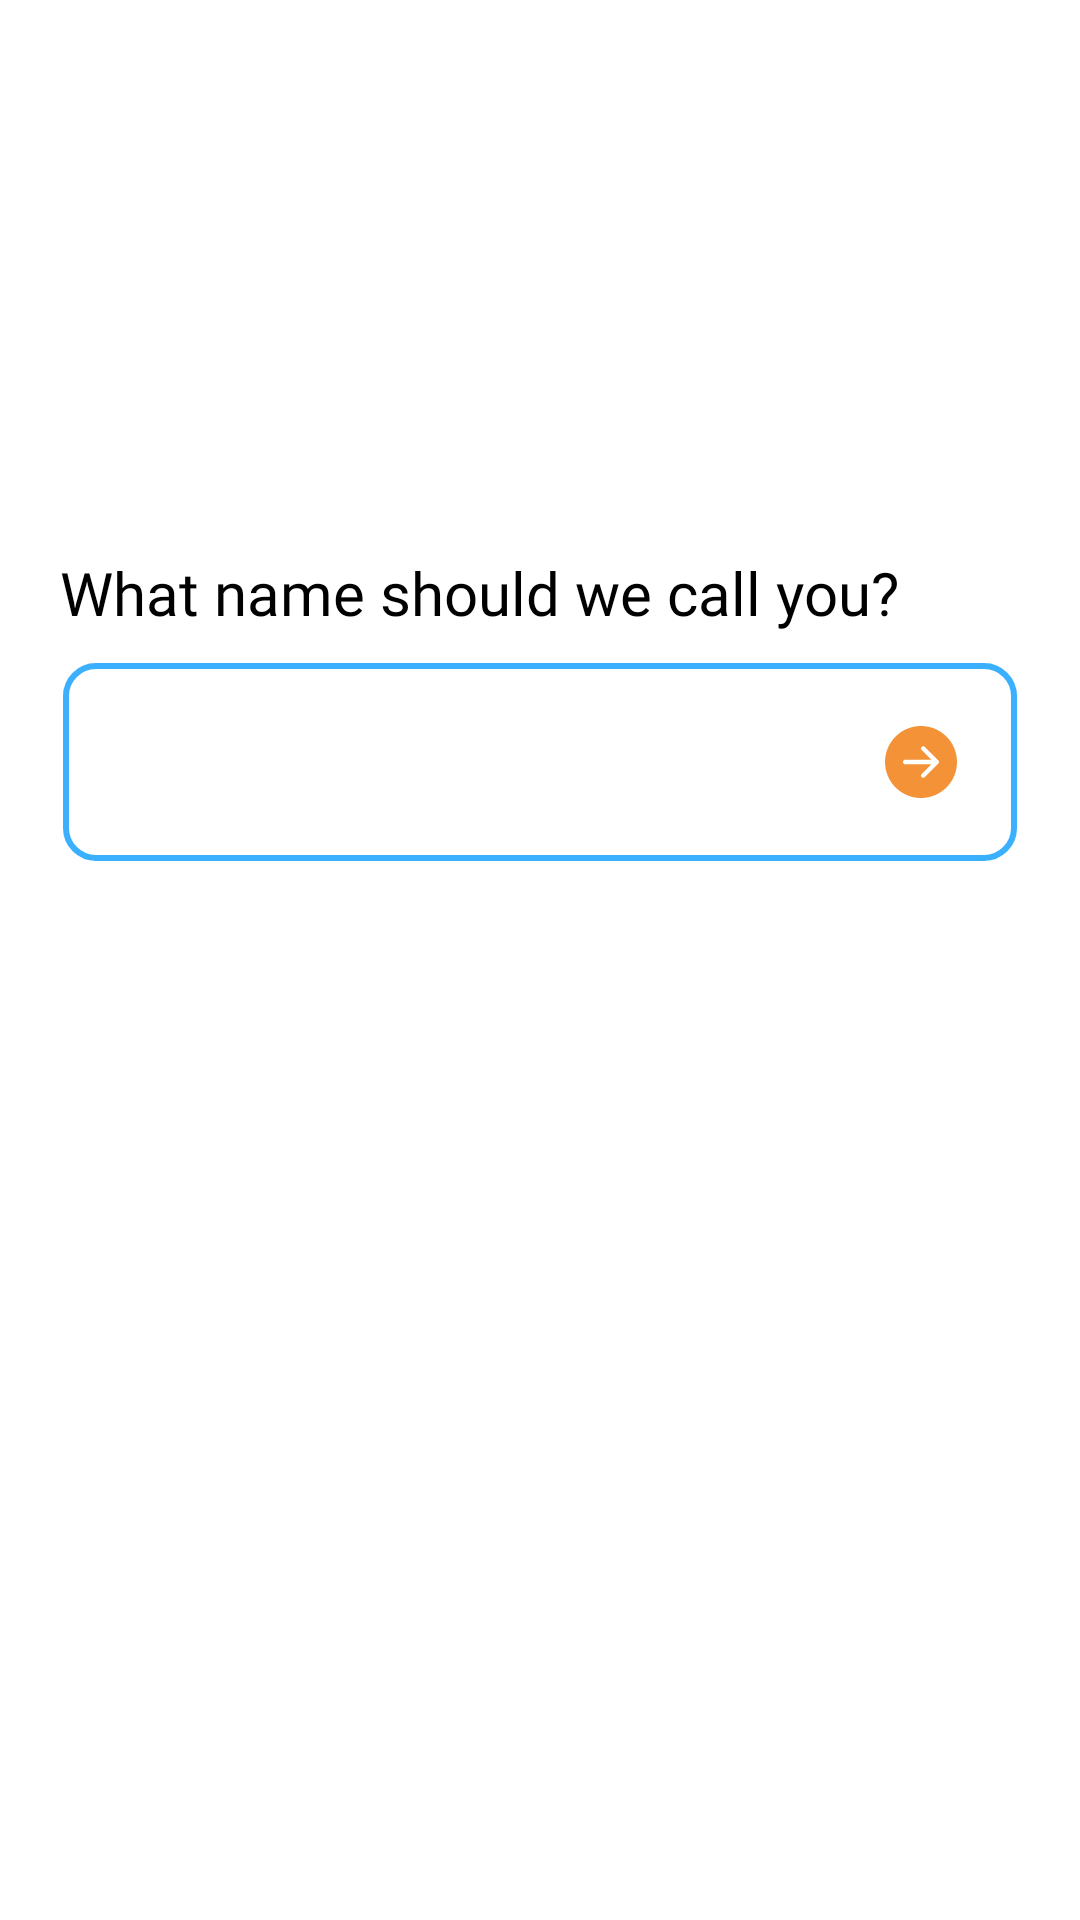

Where icons sit on this 1080x1920 app screen, as (x1, y1, x2, y2):
next dash: (885, 726, 957, 798)
